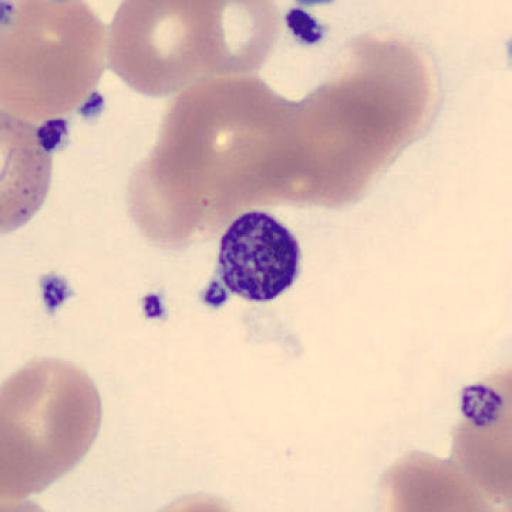Platelet: (201, 208, 307, 307)
RBC: (152, 74, 336, 238), (218, 78, 402, 210), (277, 80, 403, 209), (0, 354, 104, 502), (326, 32, 446, 149), (2, 0, 108, 123), (105, 0, 228, 99), (376, 447, 500, 512), (125, 150, 204, 252), (180, 0, 282, 78), (1, 32, 81, 123), (0, 108, 53, 238), (448, 411, 512, 510), (134, 489, 254, 512), (14, 0, 108, 23), (0, 488, 60, 512), (1, 495, 62, 512)
